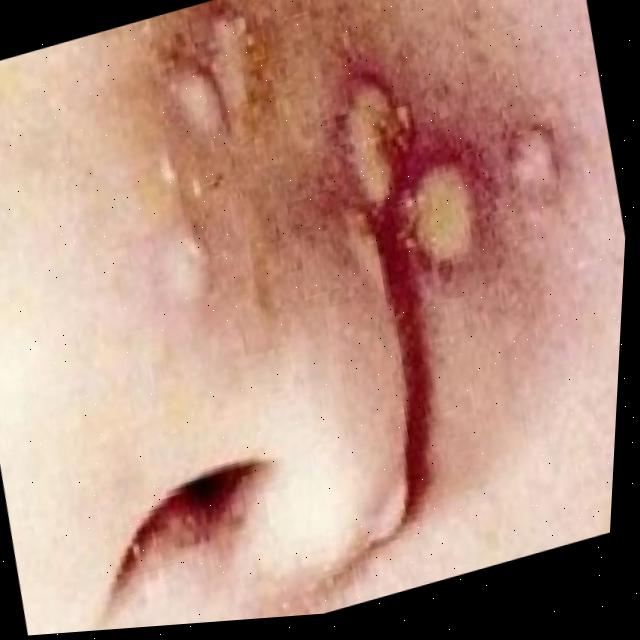Eczema: (152, 0, 553, 312)
